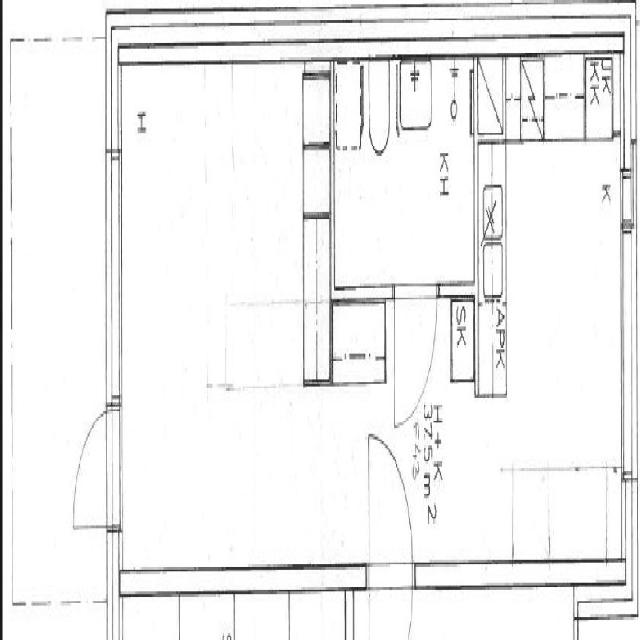door: (362, 422, 418, 640), (64, 395, 116, 543), (390, 278, 440, 429)
window: (100, 124, 128, 411)
zone: (114, 47, 326, 537), (2, 25, 109, 634), (481, 134, 628, 570), (339, 64, 474, 297)
